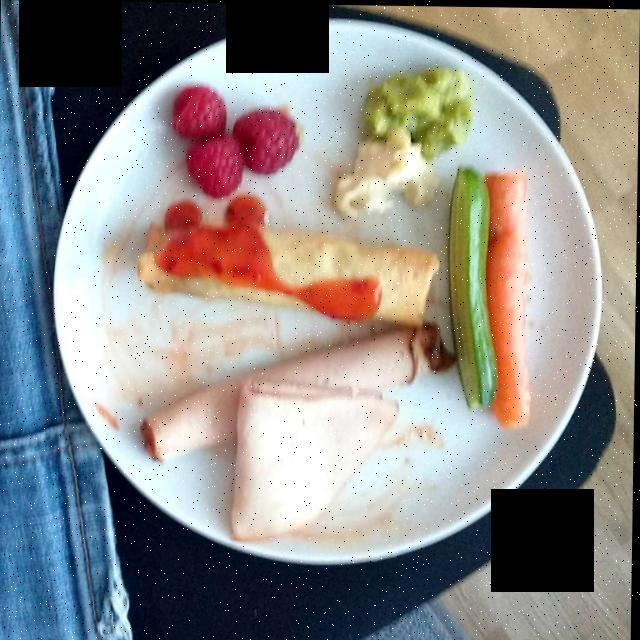carrot: (482, 171, 533, 424)
cucumber: (446, 168, 498, 407)
guacamole: (364, 47, 472, 168)
hummus: (339, 124, 436, 226)
meatloaf: (131, 320, 452, 546)
raspberries: (173, 87, 297, 193)
sauce: (165, 201, 378, 326)
spring-roll-fried: (144, 208, 439, 326)
